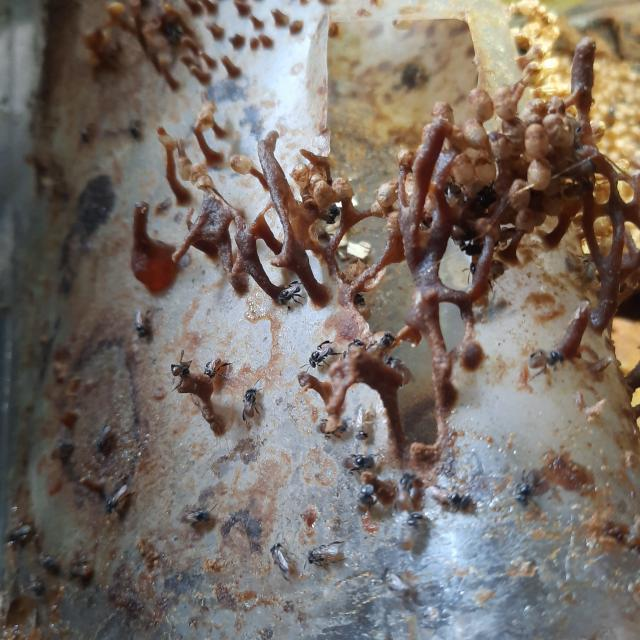honeybee: (265, 540, 298, 581), (428, 483, 476, 511), (173, 502, 216, 532), (526, 347, 566, 377), (306, 540, 346, 568), (508, 472, 538, 509), (166, 350, 194, 388), (101, 482, 132, 516), (467, 260, 506, 286), (202, 348, 232, 380), (240, 382, 260, 430), (355, 486, 380, 524), (375, 569, 409, 596), (334, 452, 374, 474), (5, 522, 39, 546), (307, 342, 336, 369), (129, 307, 152, 340), (386, 356, 411, 386), (369, 331, 396, 358), (274, 281, 302, 307), (396, 468, 415, 506), (95, 420, 116, 454), (50, 439, 77, 465), (352, 415, 374, 444), (36, 554, 66, 574), (444, 179, 466, 200), (126, 116, 142, 142), (76, 127, 96, 147)
